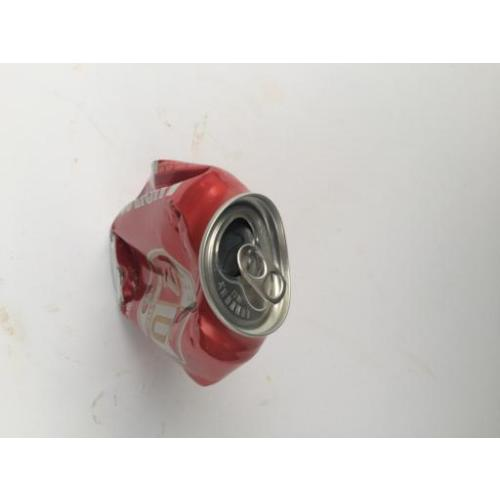metal: (111, 159, 294, 387)
